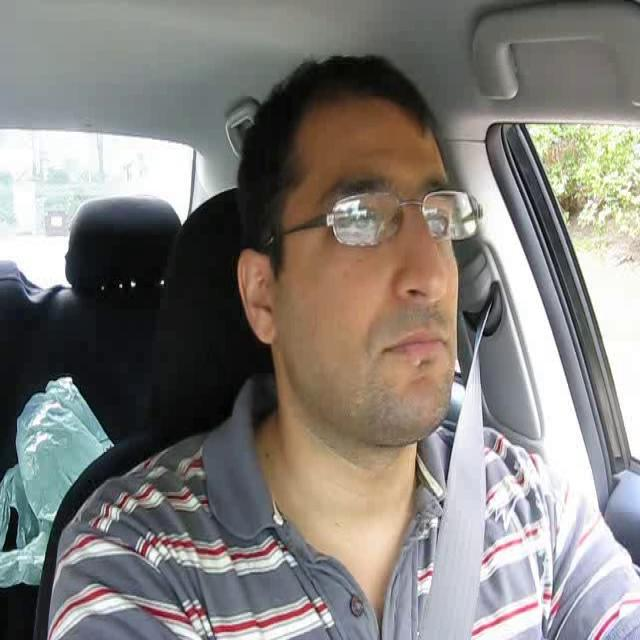close: (377, 320, 452, 371)
